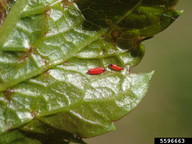Thrips: (86, 66, 104, 76)
